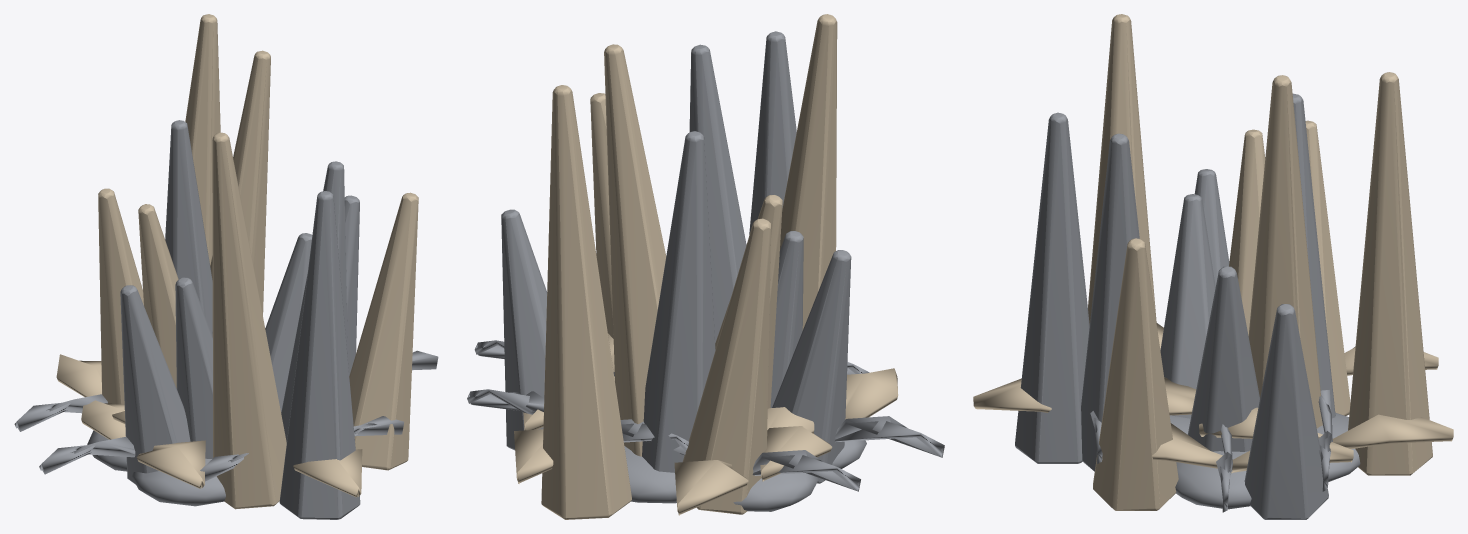
Rendered from bio_crystal_fan_25_far.glb.
The picture shows the model from 3 angles, left to right: view 1: azimuth 30°, elevation 25°; view 2: azimuth 150°, elevation 25°; view 3: azimuth 270°, elevation 25°; orthographic projection. The views are drawn at different scales.
Visible parts, largest first — view 1: Reflecting mineral prism.007, Reflecting mineral prism.002, Reflecting mineral prism.005, Reflecting mineral prism.004, Reflecting mineral prism.003, Reflecting mineral prism.006, Reflecting mineral prism.001, Reflecting mineral prism.012, Reflecting mineral prism.011, Reflecting mineral prism.009, Reflecting mineral prism, Low buttress leaf.017 (+8 smaller); view 2: Reflecting mineral prism.011, Reflecting mineral prism.006, Reflecting mineral prism.003, Reflecting mineral prism.001, Reflecting mineral prism.007, Reflecting mineral prism.004, Reflecting mineral prism.010, Reflecting mineral prism.008, Reflecting mineral prism.002, Mineral substrate, Low buttress leaf.017, Reflecting mineral prism.012 (+7 smaller); view 3: Reflecting mineral prism.011, Reflecting mineral prism.002, Reflecting mineral prism.005, Reflecting mineral prism.003, Reflecting mineral prism.008, Reflecting mineral prism.010, Reflecting mineral prism, Reflecting mineral prism.012, Reflecting mineral prism.007, Reflecting mineral prism.001, Reflecting mineral prism.009, Mineral substrate (+7 smaller).
Part boxes in pixels (x1,y1,x2,y2): Reflecting mineral prism.007: (212,132,286,509); Reflecting mineral prism.002: (279,191,360,519); Reflecting mineral prism.005: (349,192,418,470); Reflecting mineral prism.004: (120,285,190,484); Reflecting mineral prism.003: (210,50,270,337); Reflecting mineral prism.006: (165,120,212,336); Reflecting mineral prism.001: (98,188,143,404); Reflecting mineral prism.012: (175,277,212,458); Reflecting mineral prism.011: (185,14,220,265); Reflecting mineral prism.009: (138,204,178,387); Reflecting mineral prism: (265,233,312,411); Low buttress leaf.017: (81,397,205,488); Reflecting mineral prism.011: (541,85,631,519); Reflecting mineral prism.006: (642,131,715,472); Reflecting mineral prism.003: (604,44,666,456); Reflecting mineral prism.001: (682,218,771,514); Reflecting mineral prism.007: (780,14,837,330); Reflecting mineral prism.004: (772,250,851,483); Reflecting mineral prism.010: (689,44,746,342); Reflecting mineral prism.008: (501,209,547,450); Reflecting mineral prism.002: (749,31,796,234); Mineral substrate: (624,440,866,511); Low buttress leaf.017: (760,368,898,481); Reflecting mineral prism.012: (770,231,803,407); Reflecting mineral prism.011: (1348,72,1432,475); Reflecting mineral prism.002: (1015,112,1089,463); Reflecting mineral prism.005: (1093,238,1178,510); Reflecting mineral prism.003: (1248,75,1322,428); Reflecting mineral prism.008: (1244,304,1328,519); Reflecting mineral prism.010: (1081,133,1139,471); Reflecting mineral prism: (1187,266,1259,451); Reflecting mineral prism.012: (1160,194,1215,418); Reflecting mineral prism.007: (1088,14,1156,324); Reflecting mineral prism.001: (1305,120,1350,415); Reflecting mineral prism.009: (1229,129,1265,335); Mineral substrate: (1169,412,1360,509).
Bounding box in the file's own units: 2.22 × 1.97 × 2.09.
